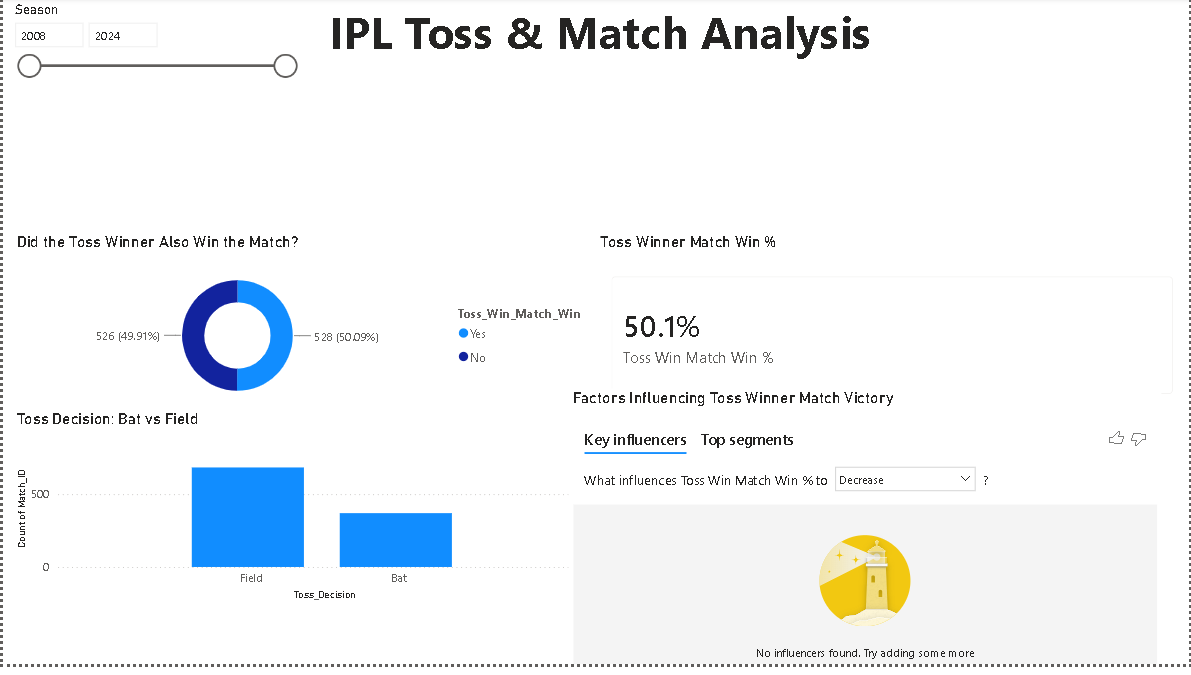

Layout of this report page (visuals, bound fields, positions):
{"tool":"powerbi","page":{"name":"Dashboard 3 - Toss & Match Analysis","canvas":[1280,720],"ordinal":2},"visuals":[{"type":"textbox","box":[10,0,1270,118],"z":0},{"type":"donutChart","title":"Did the Toss Winner Also Win the Match?","fields":{"Category":["Toss_Analysis.Toss_Win_Match_Win"],"Y":["CountNonNull(Toss_Analysis.Match_ID)"]},"box":[10,254,630,192],"z":1},{"type":"clusteredColumnChart","title":"Toss Decision: Bat vs Field","fields":{"Category":["Toss_Analysis.Toss_Decision"],"Y":["CountNonNull(Toss_Analysis.Match_ID)"]},"box":[10,446,630,210],"z":2},{"type":"cardVisual","title":"Toss Winner Match Win %","fields":{"Data":["Toss_Analysis.Toss Win Match Win %"]},"box":[640,254,640,192],"z":3},{"type":"keyDriversVisual","title":"Factors Influencing Toss Winner Match Victory","fields":{"Target":["Toss_Analysis.Toss Win Match Win %"],"ExplainBy":["Toss_Analysis.Toss_Decision","Toss_Analysis.Super_Over","Toss_Analysis.DLS_Method"]},"box":[610,422,640,298],"z":4},{"type":"slicer","fields":{"Values":["DimSeason.Season"]},"box":[0,0,326,232],"z":5}]}

Visuals, with their boxes in screenshot pixels (x1, y1, x2, y2), scaled from the page's 1280x720 canvas onto the 1191x675 screenshot:
textbox: Rect(9, 0, 1190, 111)
"Did the Toss Winner Also Win the Match?" donutChart: Rect(9, 238, 596, 418)
"Toss Decision: Bat vs Field" clusteredColumnChart: Rect(9, 418, 596, 615)
"Toss Winner Match Win %" cardVisual: Rect(596, 238, 1190, 418)
"Factors Influencing Toss Winner Match Victory" keyDriversVisual: Rect(568, 396, 1163, 674)
slicer - DimSeason.Season: Rect(0, 0, 303, 218)
